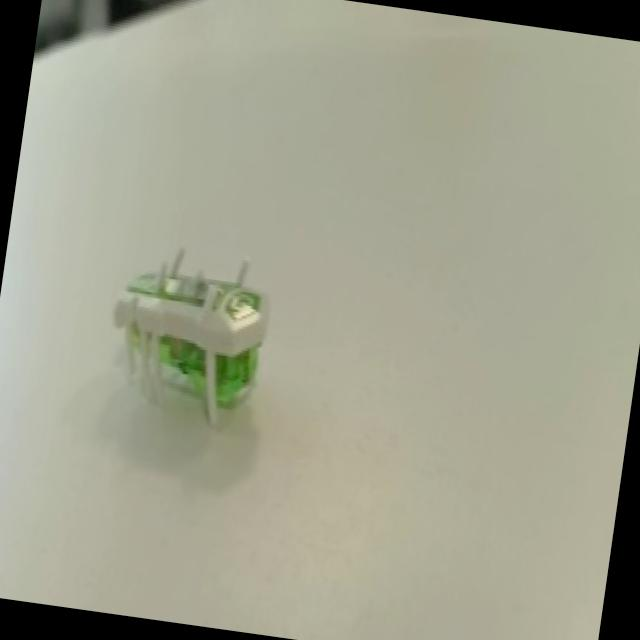4_NanoBug_Blanco: (76, 193, 320, 445)
